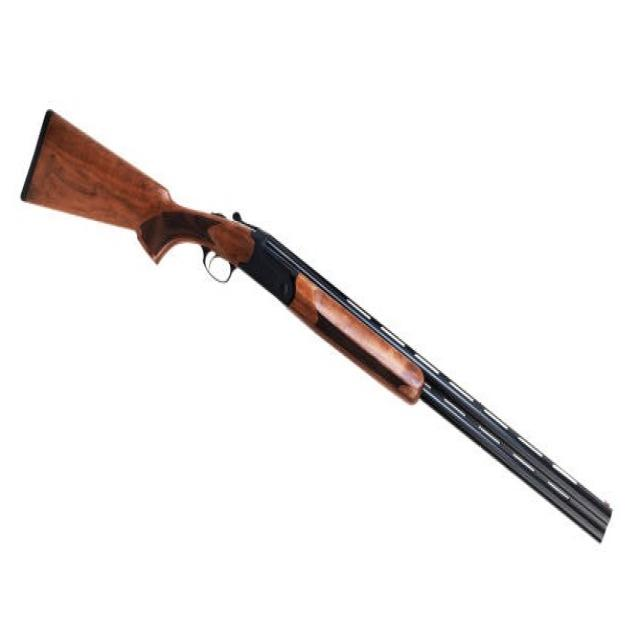rifle: (14, 111, 618, 557)
